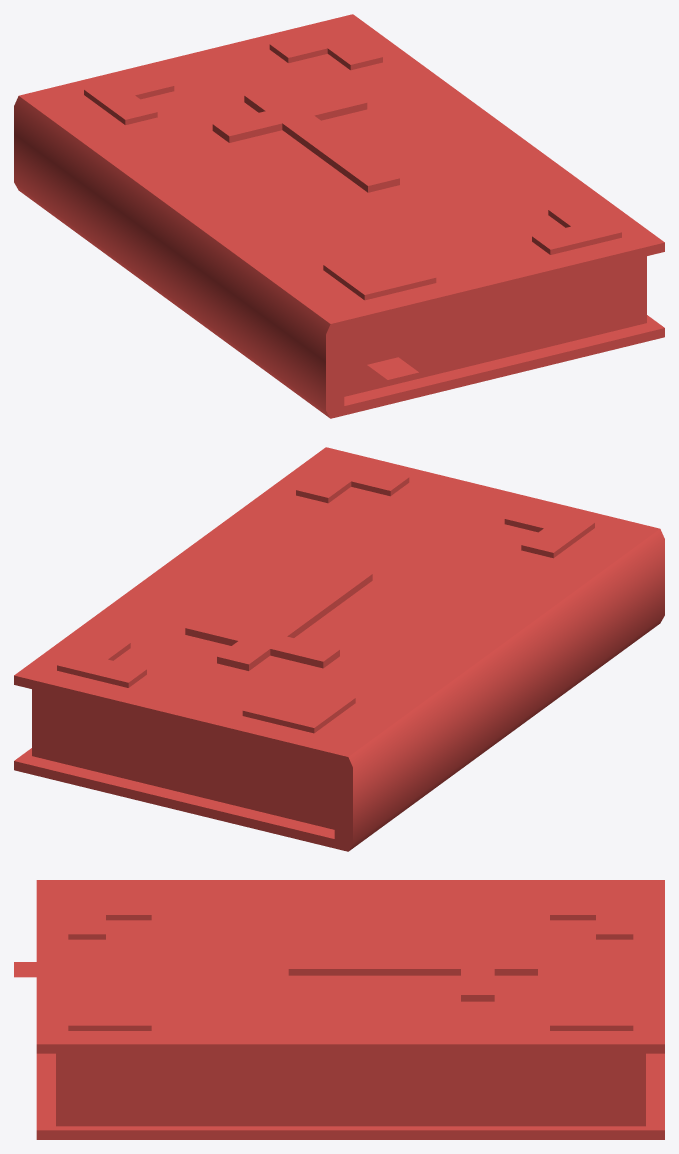
Rendered from SM_Upgrade_HolyBook.fbx.
3 renders of one model, top to bottom at view 1: azimuth 30°, elevation 25°; view 2: azimuth 150°, elevation 25°; view 3: azimuth 270°, elevation 25°, orthographic.
Visible parts, largest first — view 1: SM_HolyBook; view 2: SM_HolyBook; view 3: SM_HolyBook.
Boxes of the visible parts, box(x1,y1,x2,y2) form: SM_HolyBook: box(14, 14, 664, 418); SM_HolyBook: box(14, 447, 664, 851); SM_HolyBook: box(14, 880, 664, 1139).
Bounding box in the file's own units: 0.5486 × 0.157 × 0.9062.
